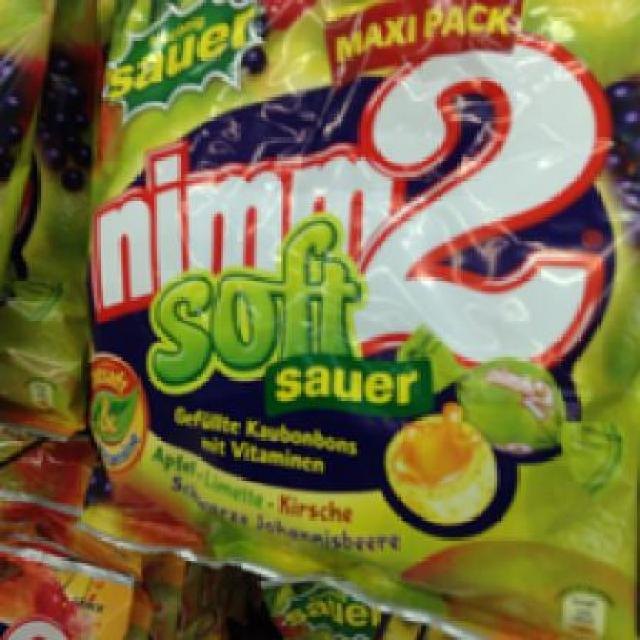Candy: (99, 2, 612, 615)
